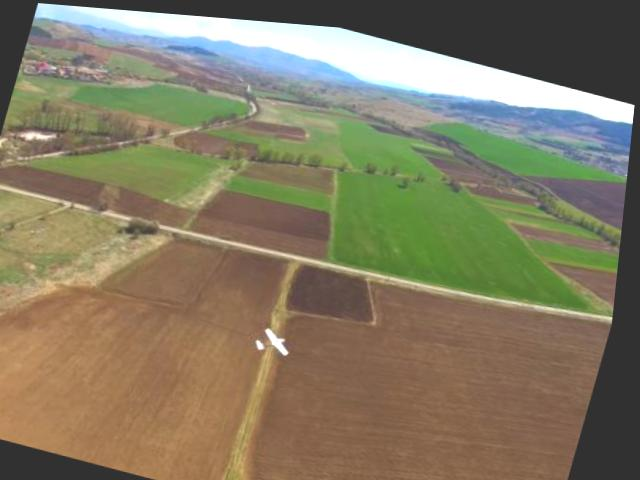uav: (252, 312, 305, 360)
